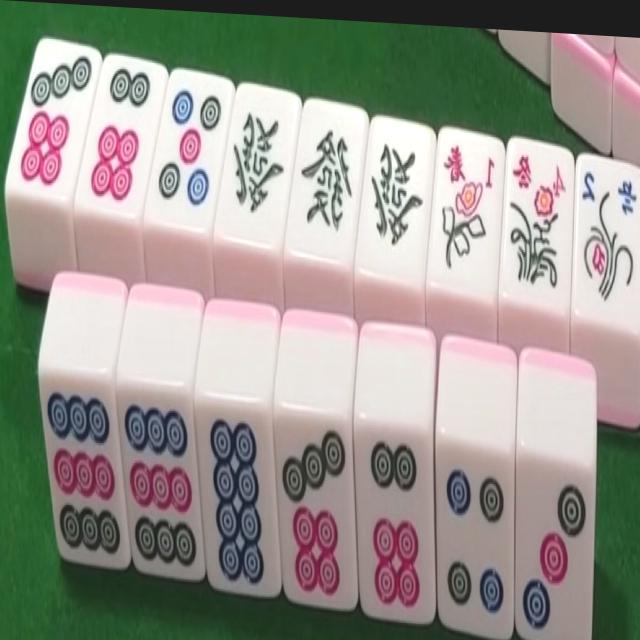f2: (569, 155, 640, 336)
fa: (367, 126, 428, 274), (299, 109, 357, 250), (231, 99, 289, 237)
ff1: (436, 138, 499, 286)
ff4: (499, 147, 574, 311)
t3: (514, 459, 598, 640)
t4: (438, 444, 517, 632)
t5: (157, 77, 224, 213)
t6: (353, 427, 437, 627), (93, 55, 151, 204)
t7: (273, 417, 360, 614), (19, 45, 95, 194)
t8: (195, 406, 281, 601)
t9: (42, 374, 130, 570), (118, 386, 205, 580)
